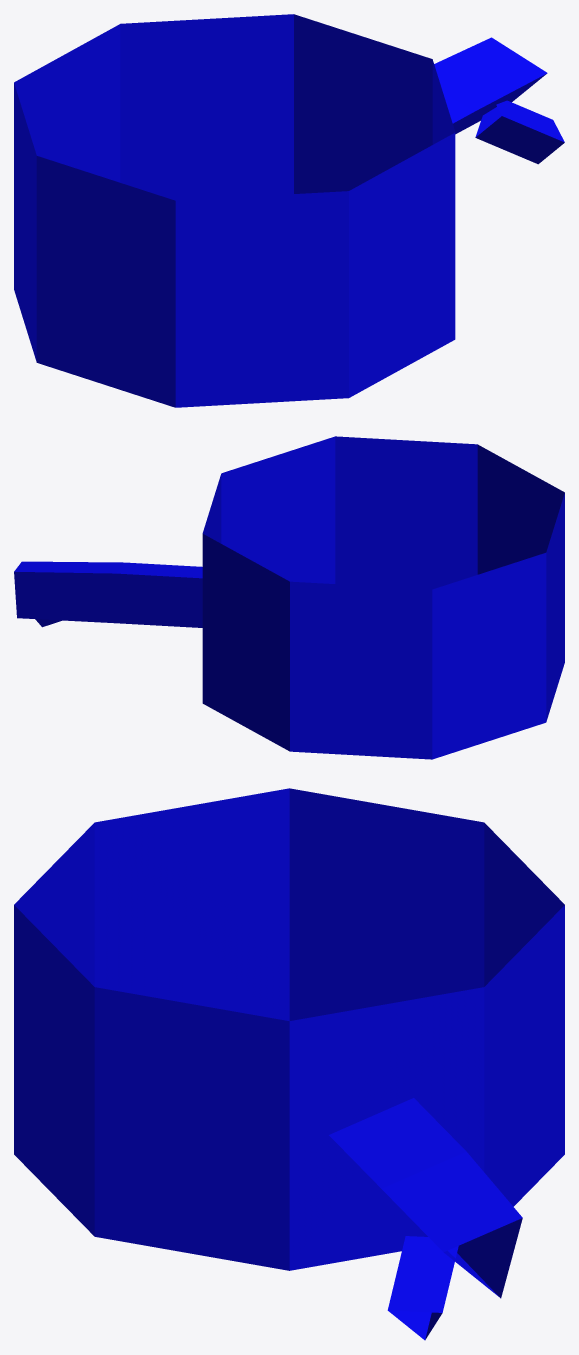
The model's file is res.fbx.
The picture shows the model from 3 angles, top to bottom: view 1: azimuth 30°, elevation 25°; view 2: azimuth 150°, elevation 25°; view 3: azimuth 270°, elevation 25°; orthographic projection. The views are drawn at different scales.
Parts seen in each view (by area): view 1: Cube; view 2: Cube; view 3: Cube.
Part boxes in pixels (bbox=[...]): Cube: bbox=[14, 14, 564, 407]; Cube: bbox=[14, 436, 564, 759]; Cube: bbox=[14, 788, 564, 1340].
Size of the model in its own units: 2.93 by 1 by 2.
